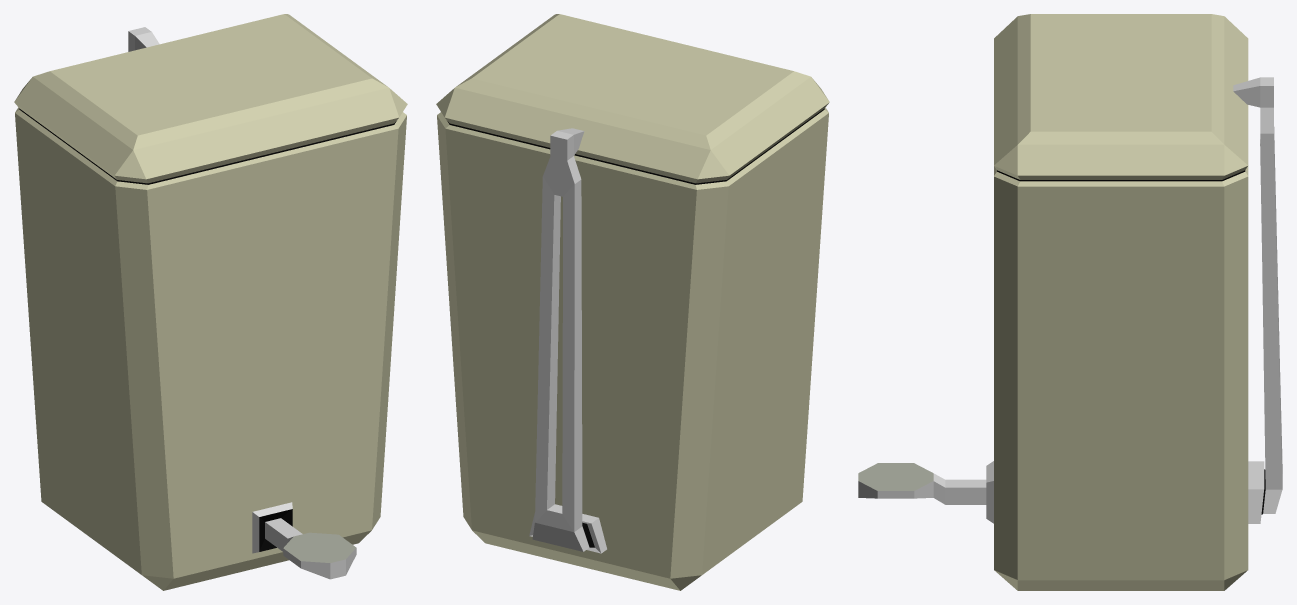
Rendered from trash_can_household_props_challenge_day_24.glb.
3 views of the same model, side by side, from view 1: azimuth 30°, elevation 25°; view 2: azimuth 150°, elevation 25°; view 3: azimuth 270°, elevation 25° (orthographic). The views are drawn at different scales.
Parts seen in each view (by area): view 1: TrashCan; view 2: TrashCan; view 3: TrashCan.
Part boxes in pixels (box(x1,y1,x2,y2)): TrashCan: box(14, 14, 407, 590); TrashCan: box(436, 14, 829, 590); TrashCan: box(858, 14, 1282, 590).
Size of the model in its own units: 2.74 by 4.07 by 3.33.
Materials: 1 (1 with a texture image).
